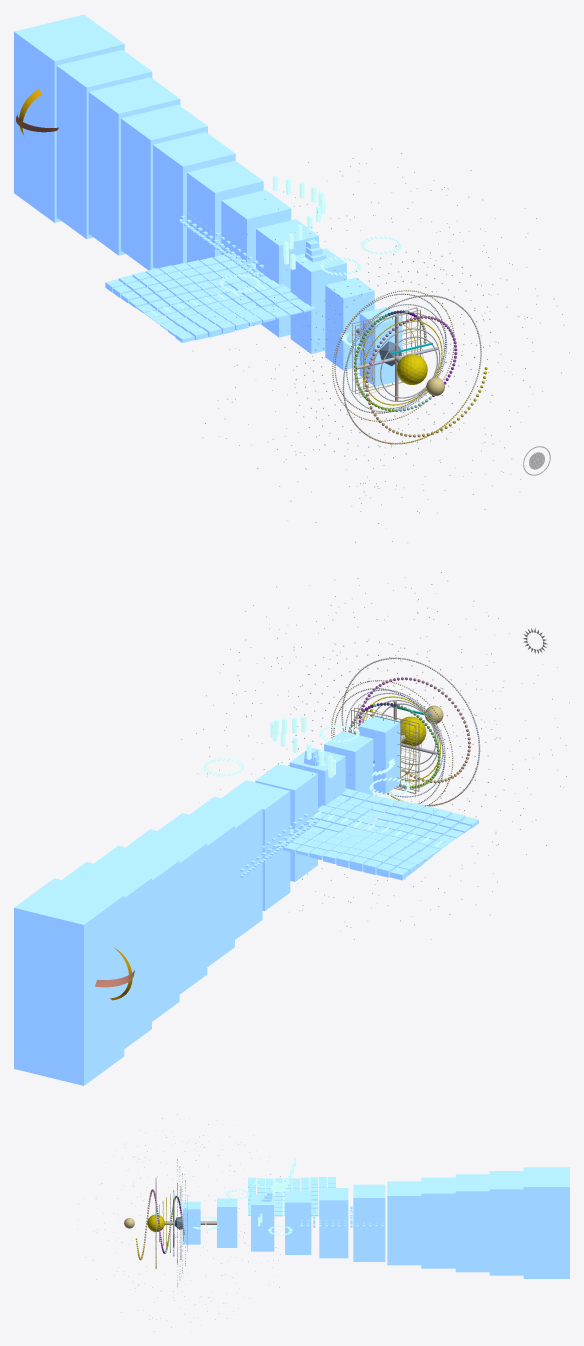
Rendered from machina-resonance-cathedral.glb.
The picture shows the model from 3 angles, top to bottom: view 1: azimuth 30°, elevation 25°; view 2: azimuth 150°, elevation 25°; view 3: azimuth 270°, elevation 25°; orthographic projection. The views are drawn at different scales.
Visible parts, largest first — view 1: Nave_10_SAGYRS, world, Nave_09_SAFHR8, Nave_08_SAE416, Nave_07_SAEnWW, Nave_06_SAFxwC, Nave_05_SAHw77, Nave_02_SAET5G, Nave_01_SAE8Cp, Nave_04_SAGARw, Nave_03_SAEgTR, Nave_00_SAE2YO; view 2: Nave_10_SAGYRS, world, Nave_09_SAFHR8, Nave_08_SAE416, Nave_07_SAEnWW, Nave_06_SAFxwC, Nave_05_SAHw77, Nave_04_SAGARw, Nave_03_SAEgTR, Nave_00_SAE2YO, Nave_01_SAE8Cp, Nave_02_SAET5G; view 3: Nave_10_SAGYRS, Nave_09_SAFHR8, Nave_08_SAE416, Nave_07_SAEnWW, Nave_06_SAFxwC, Nave_05_SAHw77, Nave_04_SAGARw, world, Nave_03_SAEgTR, Nave_02_SAET5G, Nave_01_SAE8Cp, Nave_00_SAE2YO.
Boxes of the visible parts, box(x1,y1,x2,y2) form: Nave_10_SAGYRS: box(14, 14, 124, 222); world: box(188, 148, 569, 542); Nave_09_SAFHR8: box(56, 49, 152, 239); Nave_08_SAE416: box(88, 77, 180, 255); Nave_07_SAEnWW: box(121, 104, 207, 270); Nave_06_SAFxwC: box(153, 132, 235, 268); Nave_05_SAHw77: box(187, 160, 263, 302); Nave_02_SAET5G: box(290, 248, 346, 353); Nave_01_SAE8Cp: box(325, 277, 374, 370); Nave_04_SAGARw: box(221, 190, 291, 310); Nave_03_SAEgTR: box(256, 219, 318, 337); Nave_00_SAE2YO: box(359, 307, 402, 386); Nave_10_SAGYRS: box(14, 878, 124, 1085); world: box(181, 572, 569, 939); Nave_09_SAFHR8: box(62, 862, 151, 1048); Nave_08_SAE416: box(94, 845, 179, 1021); Nave_07_SAEnWW: box(126, 829, 207, 994); Nave_06_SAFxwC: box(158, 813, 234, 966); Nave_05_SAHw77: box(190, 796, 262, 939); Nave_04_SAGARw: box(222, 780, 290, 910); Nave_03_SAEgTR: box(255, 764, 317, 881); Nave_00_SAE2YO: box(358, 715, 400, 794); Nave_01_SAE8Cp: box(324, 731, 373, 821); Nave_02_SAET5G: box(289, 748, 345, 837); Nave_10_SAGYRS: box(523, 1167, 569, 1278); Nave_09_SAFHR8: box(489, 1171, 523, 1275); Nave_08_SAE416: box(455, 1174, 489, 1272); Nave_07_SAEnWW: box(421, 1177, 455, 1268); Nave_06_SAFxwC: box(387, 1181, 421, 1265); Nave_05_SAHw77: box(353, 1184, 385, 1261); Nave_04_SAGARw: box(319, 1188, 348, 1258); world: box(78, 1114, 298, 1331); Nave_03_SAEgTR: box(285, 1191, 311, 1254); Nave_02_SAET5G: box(251, 1195, 274, 1251); Nave_01_SAE8Cp: box(217, 1198, 237, 1247); Nave_00_SAE2YO: box(182, 1201, 200, 1244).
Bounding box in the file's own units: 12.38 × 12.5 × 31.3.
